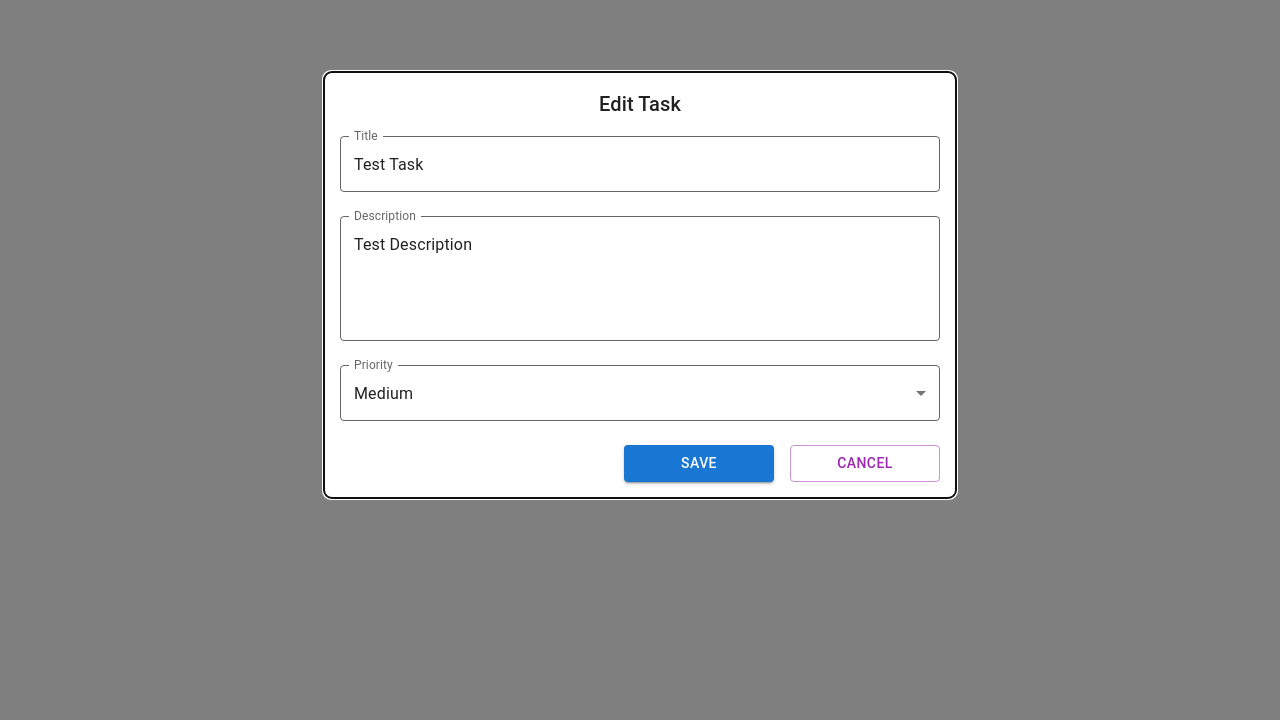
Test: EditTaskModal › handles priority change
Press the mouse on the dropdown: (384, 393) x1=354 y1=384 x2=413 y2=402
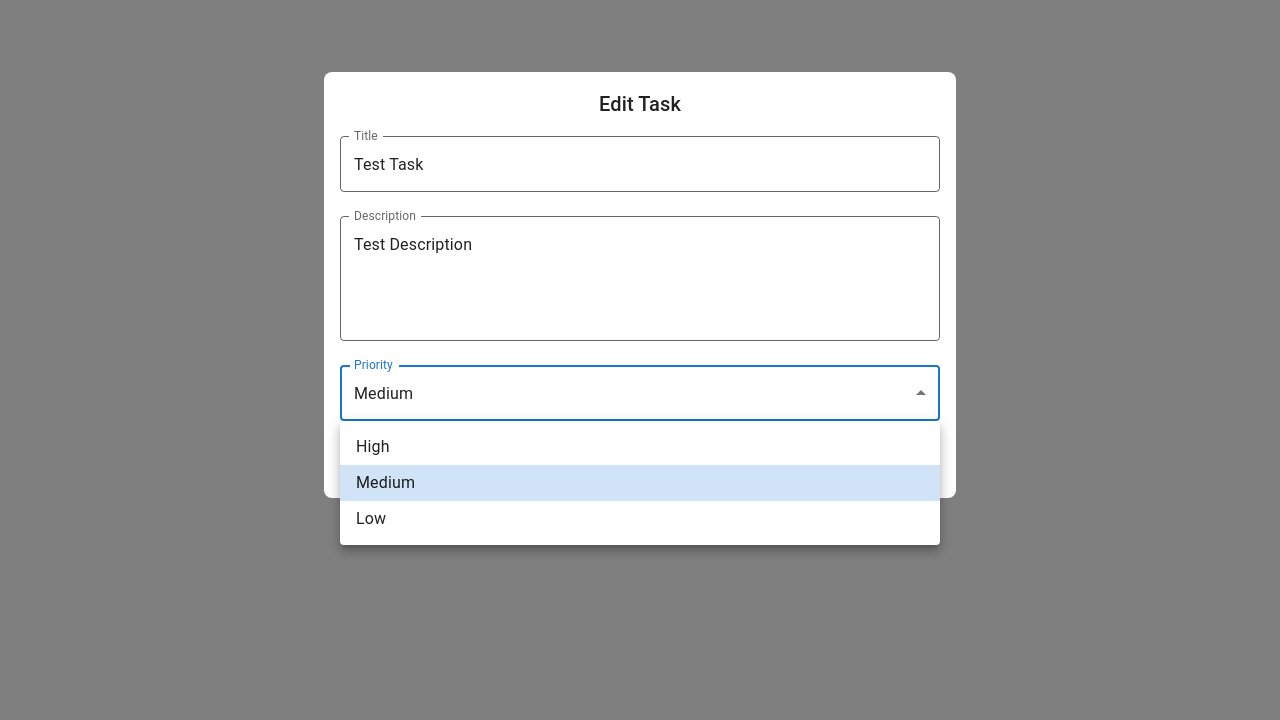
Click the option "High": click(373, 446) x1=356 y1=437 x2=390 y2=456
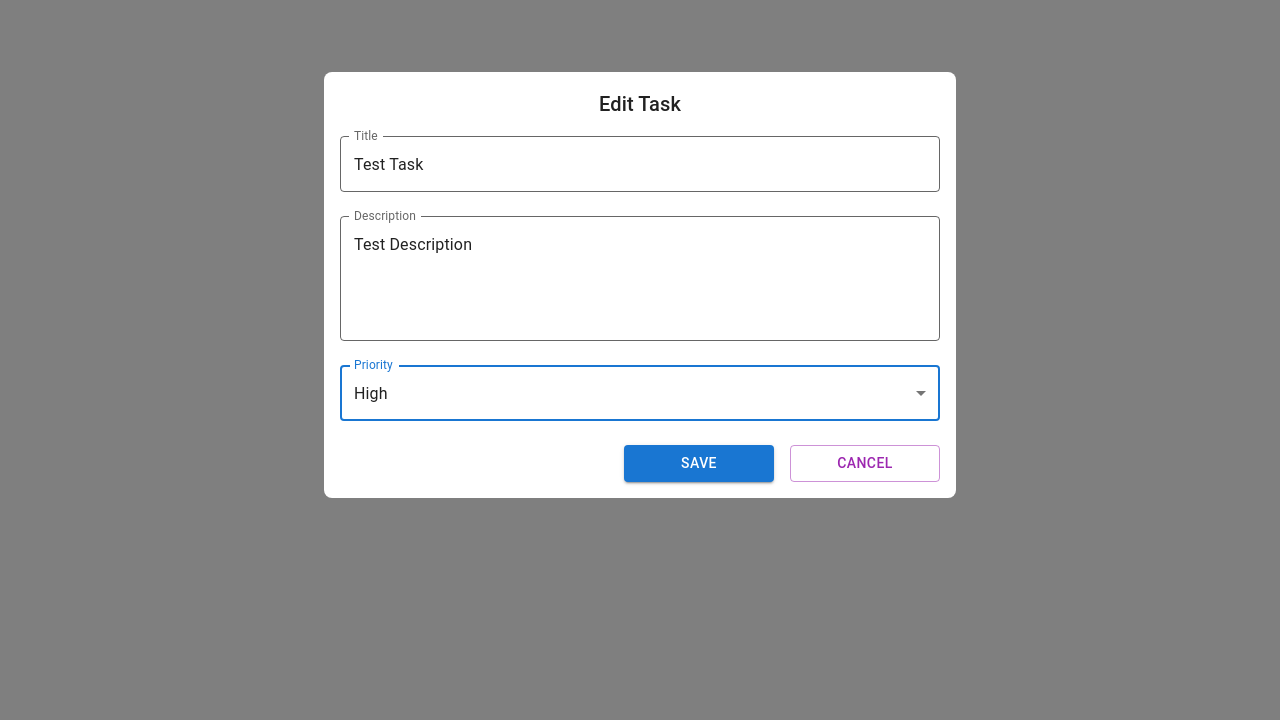
Now the dropdown reads "High", box x1=354 y1=384 x2=388 y2=402
